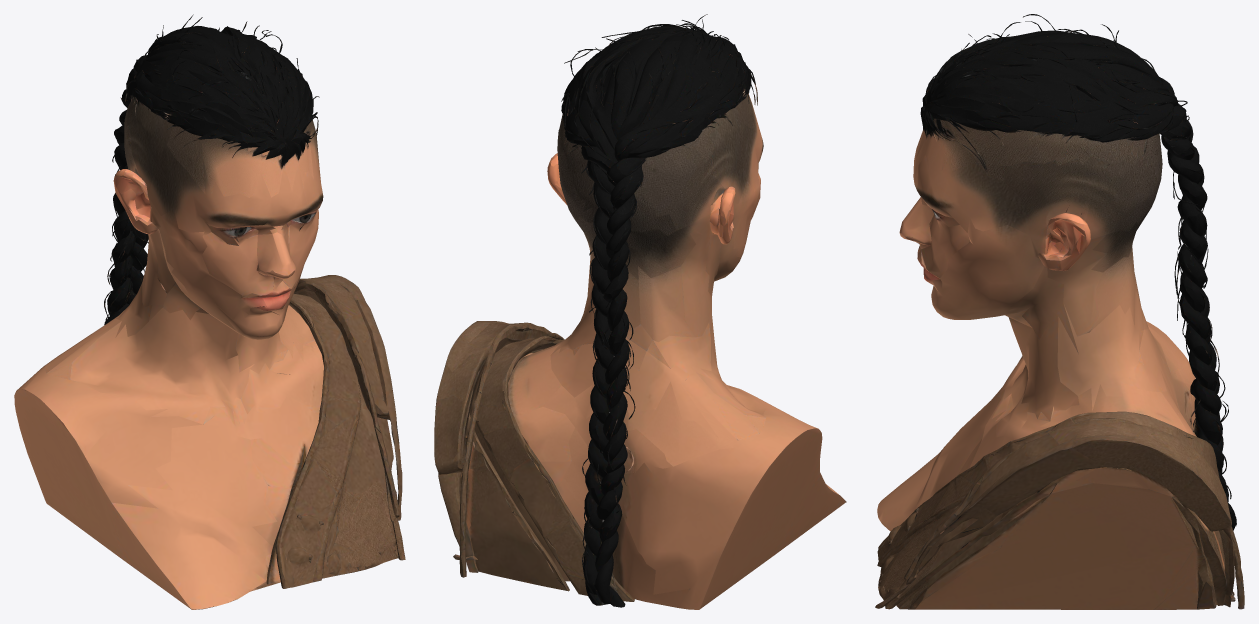
File: hair_m_braid.glb
The picture shows the model from 3 angles, left to right: view 1: azimuth 30°, elevation 25°; view 2: azimuth 150°, elevation 25°; view 3: azimuth 270°, elevation 25°; orthographic projection. The views are drawn at different scales.
Bounding box in the file's own units: 1.29 × 1.9 × 1.22.
1 material, 1 textured.
